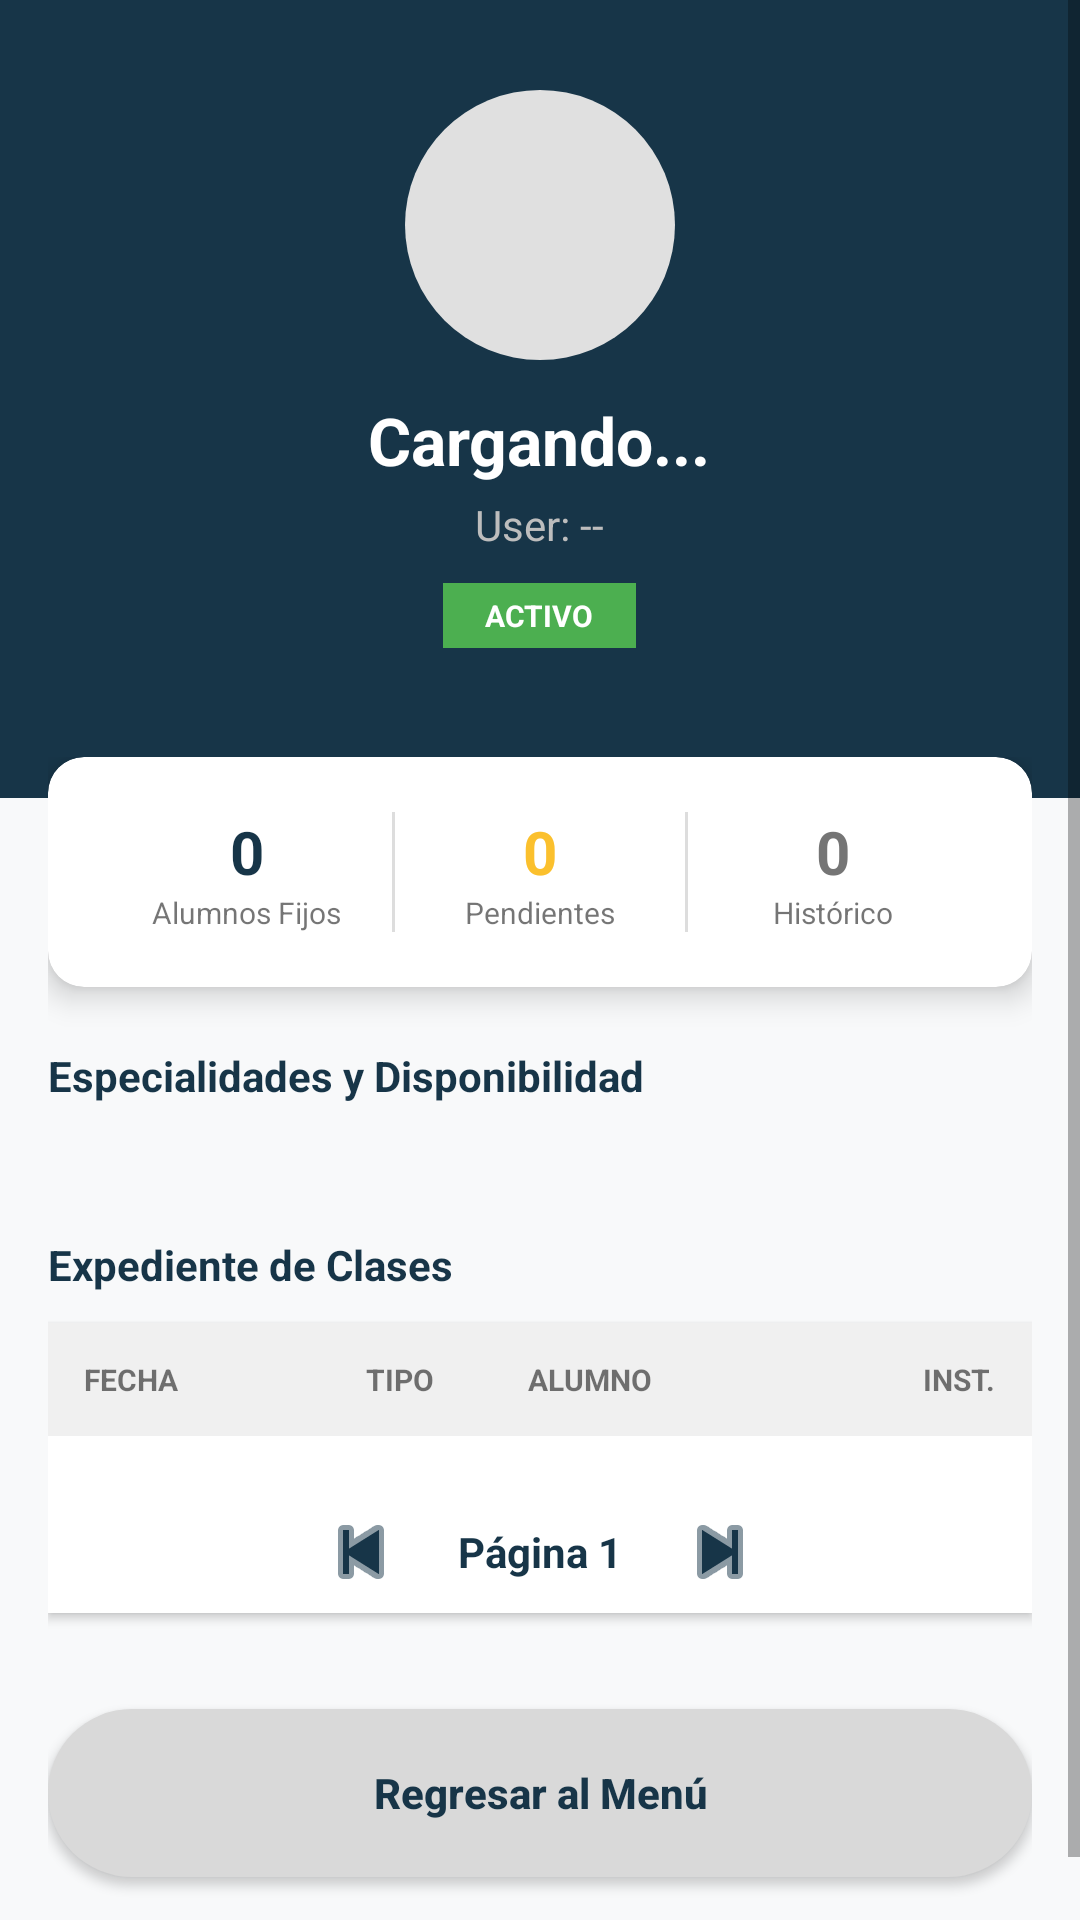

Icon bounding boxes for this 1080×1920 phone screenshot, format (x1, y1, x2, y2):
Anterior: (338, 1525, 384, 1579)
Siguiente: (697, 1525, 743, 1579)
